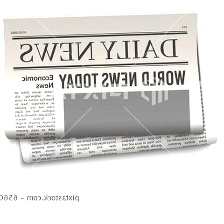news_paper: (15, 18, 219, 166), (0, 12, 204, 140)
